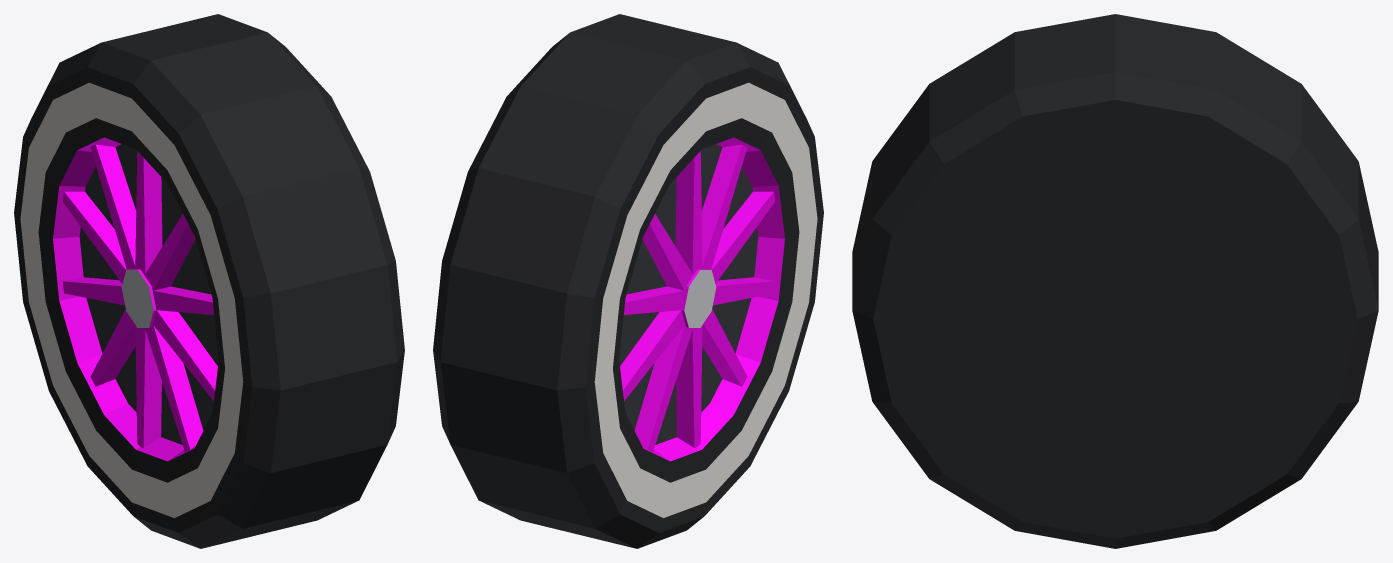
Rendered from rim_classic.glb.
The picture shows the model from 3 angles, left to right: view 1: azimuth 30°, elevation 25°; view 2: azimuth 150°, elevation 25°; view 3: azimuth 270°, elevation 25°; orthographic projection.
Parts seen in each view (by area): view 1: rim_classic__mesh; view 2: rim_classic__mesh; view 3: rim_classic__mesh.
Boxes of the visible parts, x1,y1,x2,y2 form: rim_classic__mesh: (14,14,404,548); rim_classic__mesh: (433,14,823,548); rim_classic__mesh: (852,14,1378,548).
Bounding box in the file's own units: 0.343 × 1 × 1.
1 material, 1 textured.
